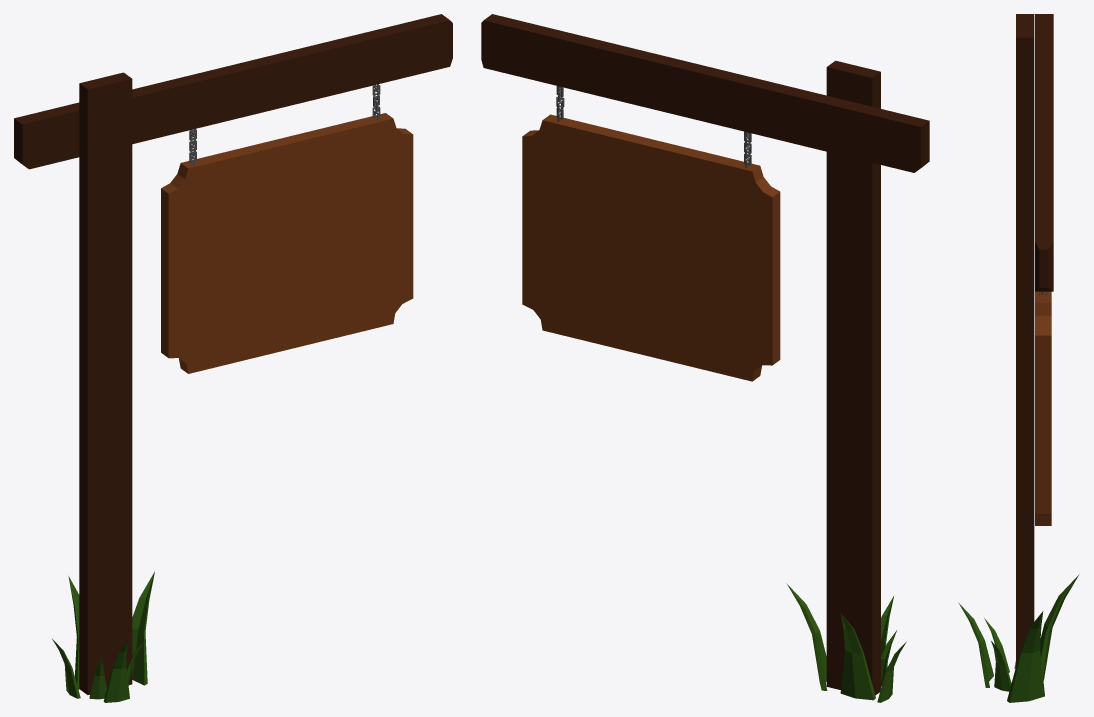
Rendered from Sign13.obj.
The picture shows the model from 3 angles, left to right: view 1: azimuth 30°, elevation 25°; view 2: azimuth 150°, elevation 25°; view 3: azimuth 270°, elevation 25°; orthographic projection. The views are drawn at different scales.
Parts seen in each view (by area): view 1: Sign13; view 2: Sign13; view 3: Sign13.
Part boxes in pixels (x1,y1,x2,y2): Sign13: (14, 14, 452, 702); Sign13: (481, 14, 929, 702); Sign13: (958, 14, 1079, 702).
Size of the model in its own units: 1.55 by 2.08 by 0.3487.
